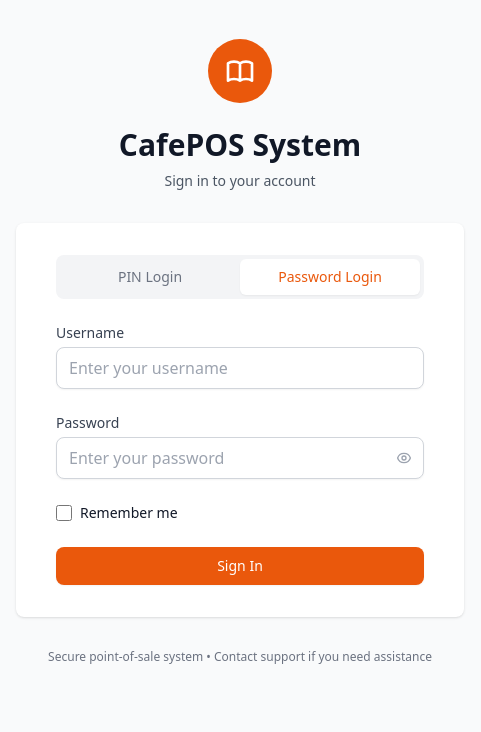
Test case: AuthenticationForm › Mode Switching › should switch from password to PIN mode
Click the button "PIN Login".
click(150, 277)  # box [60,259,240,295]
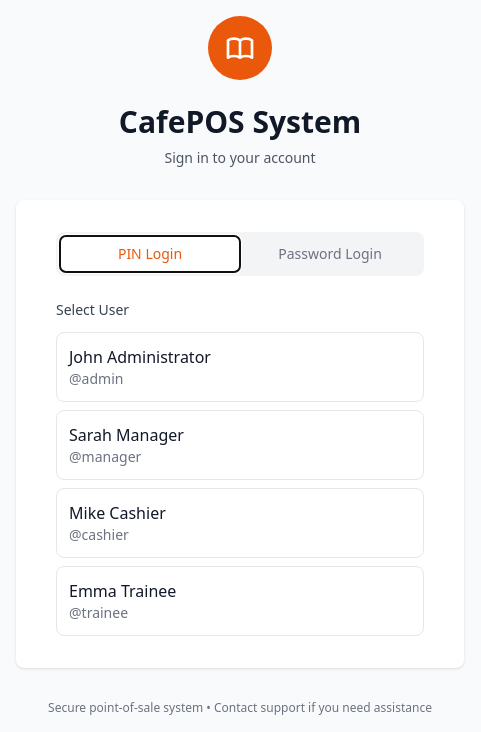
expect the text "Select User" is shown: met, box [56,300,129,319]
